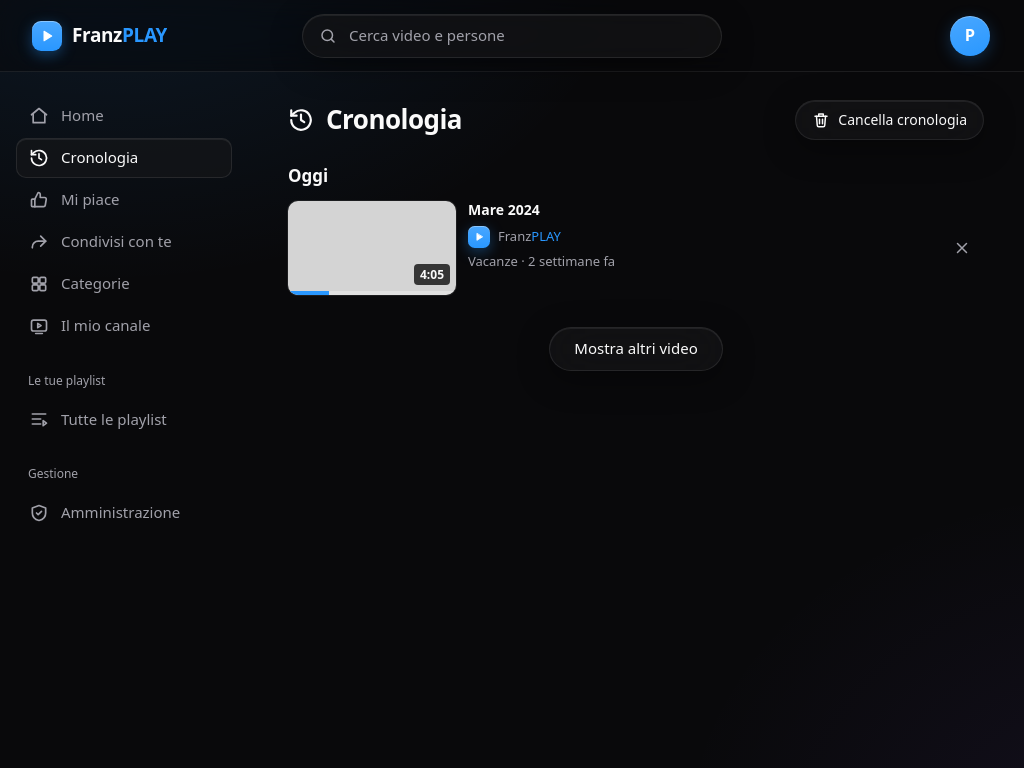
Test: history page › loads more videos on request
Step 1. Click the button "Mostra altri video" → (636, 349), box [549,327,723,371]
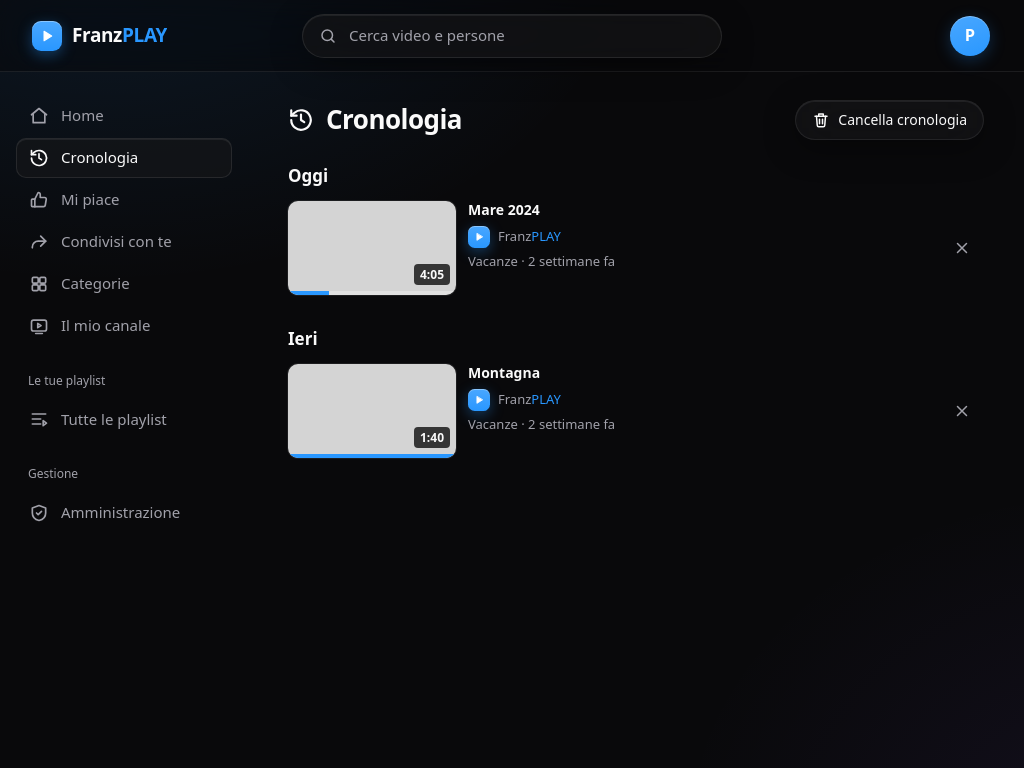
Check: the element "Ieri" is shown, box [288,327,984,458]
Check: the button "Mostra altri video" is gone
